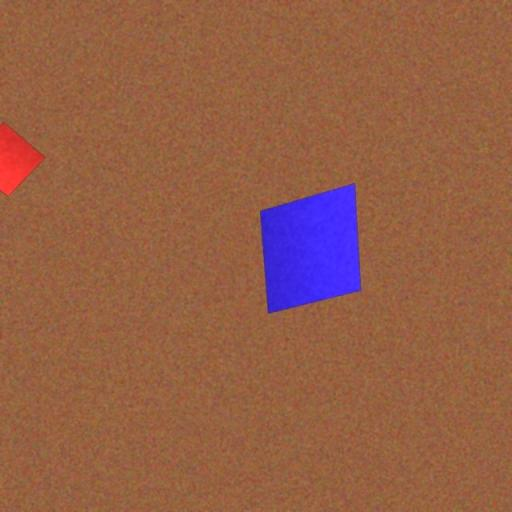BLUE_SQUARE: (259, 184, 362, 314)
RED_SQUARE: (0, 121, 46, 197)
